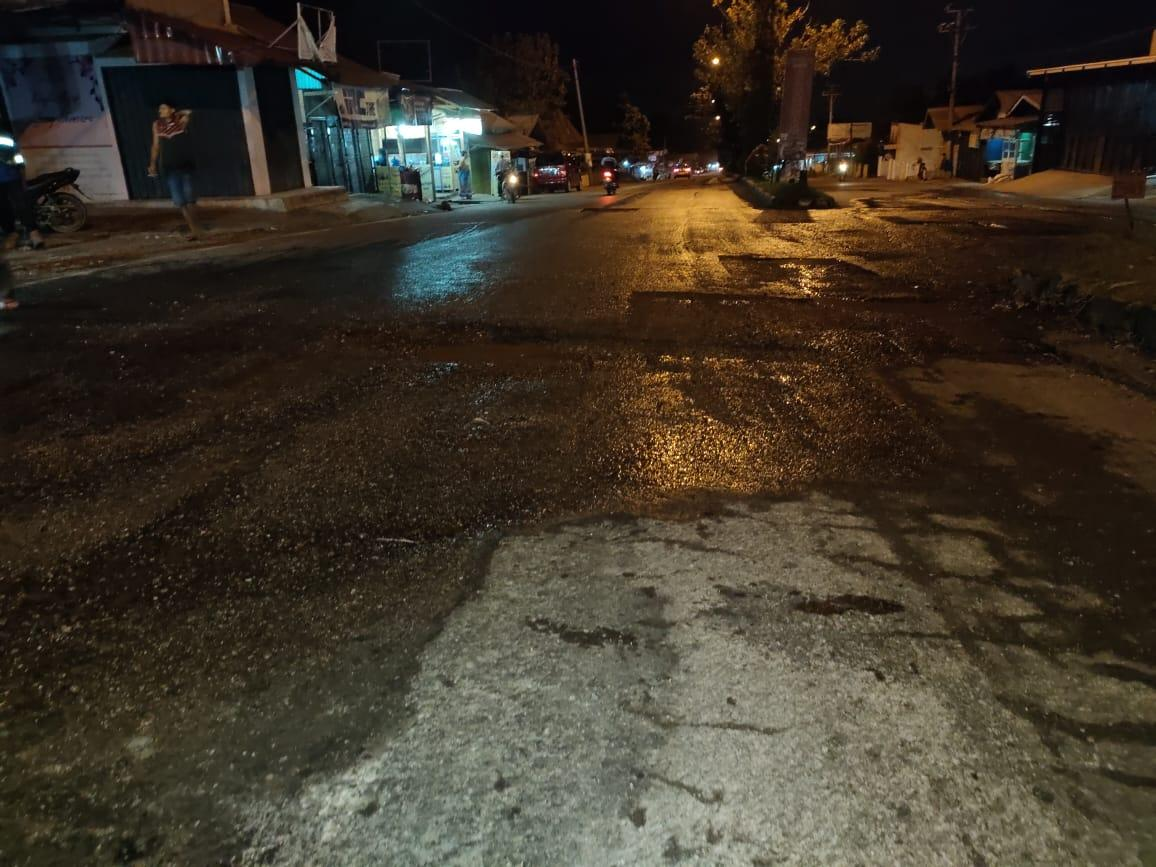Pothole: (421, 243, 1142, 366)
